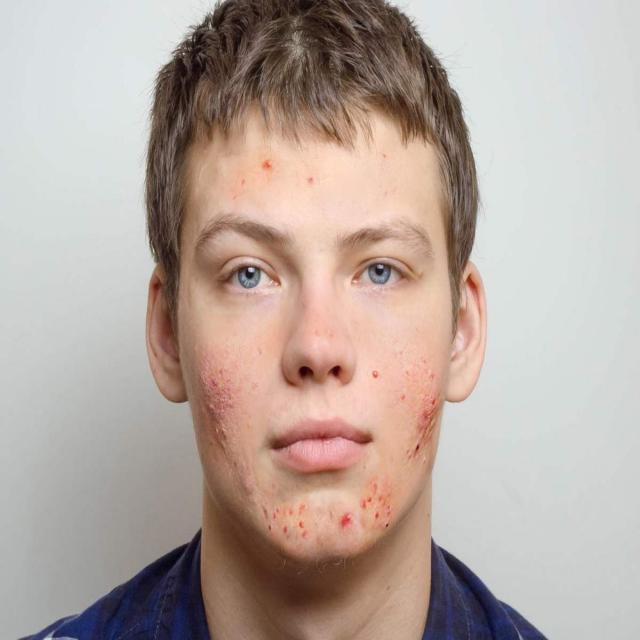acne: (251, 478, 401, 557), (188, 360, 262, 461), (390, 356, 447, 471), (259, 154, 275, 176), (368, 366, 382, 384), (308, 170, 318, 190)
